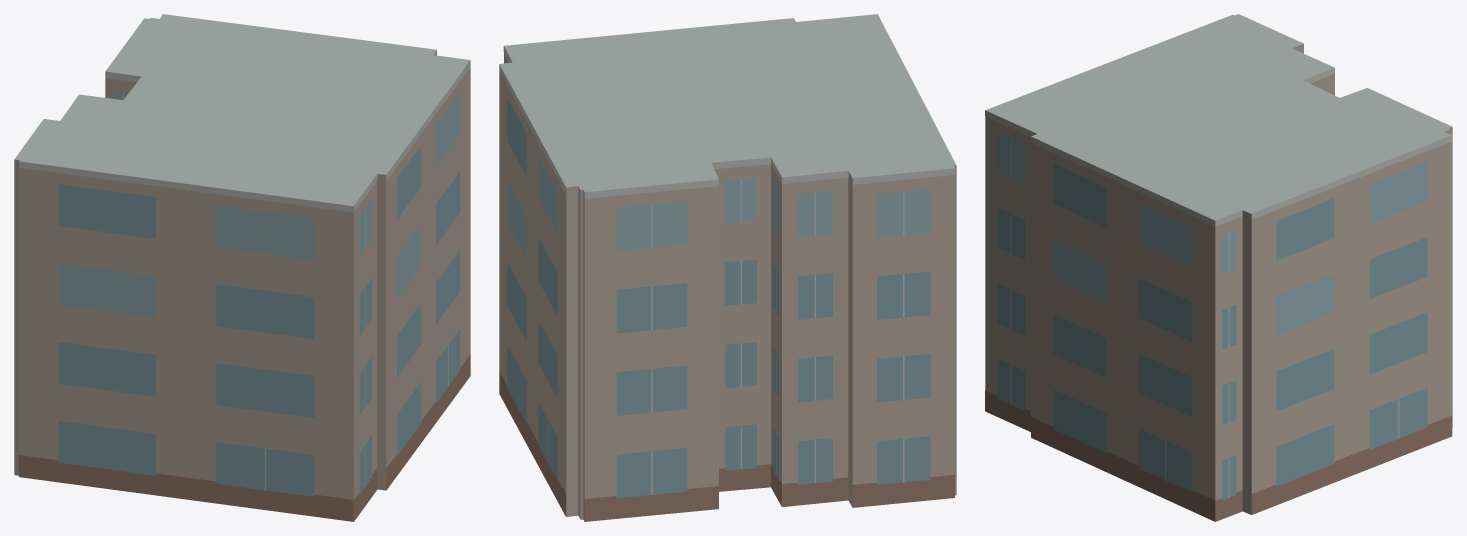
Rendered from survey-upis-32654476.glb.
3 renders of one model, left to right at view 1: azimuth 30°, elevation 25°; view 2: azimuth 150°, elevation 25°; view 3: azimuth 270°, elevation 25°, orthographic. The views are drawn at different scales.
Parts seen in each view (by area): view 1: survey-upis-32654476.tmp; view 2: survey-upis-32654476.tmp; view 3: survey-upis-32654476.tmp.
Boxes of the visible parts, x1,y1,x2,y2 form: survey-upis-32654476.tmp: (14,14,470,521); survey-upis-32654476.tmp: (499,14,956,521); survey-upis-32654476.tmp: (985,14,1452,521).
Bounding box in the file's own units: 17.97 × 12.2 × 17.17.
